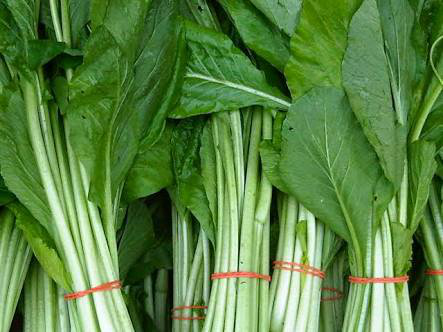Sawi: (61, 33, 399, 309)
